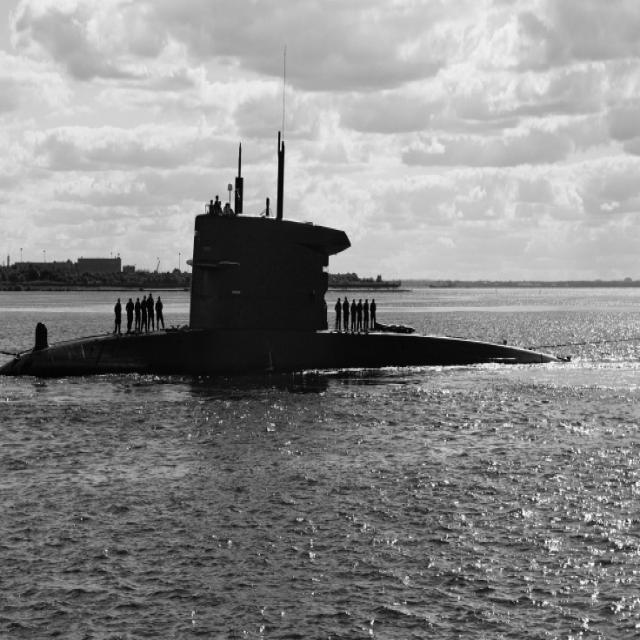submarine: (1, 211, 559, 379)
